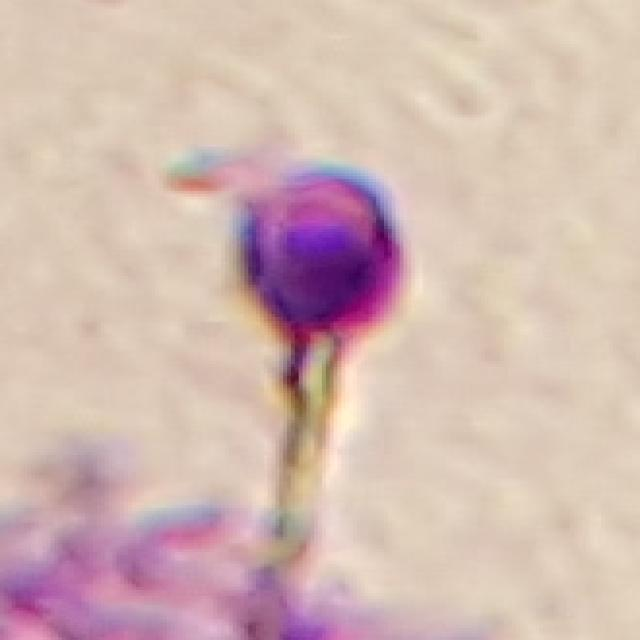normal sperm: (234, 168, 411, 451)
